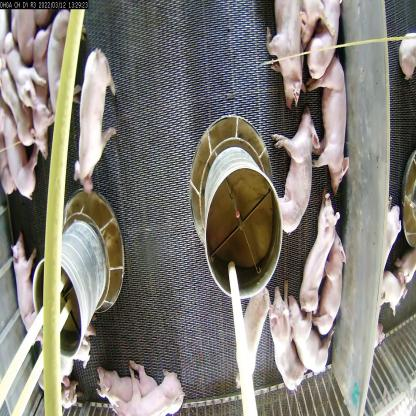Pig: (304, 34, 353, 198), (268, 86, 315, 255), (71, 50, 114, 195), (298, 166, 332, 334), (0, 108, 44, 229), (39, 0, 74, 147), (262, 290, 307, 402), (291, 280, 337, 384), (312, 212, 348, 343), (12, 225, 46, 362), (224, 283, 266, 386), (0, 59, 35, 175), (268, 4, 310, 98), (6, 41, 44, 131), (124, 370, 191, 415), (98, 355, 141, 406), (312, 0, 341, 75)
